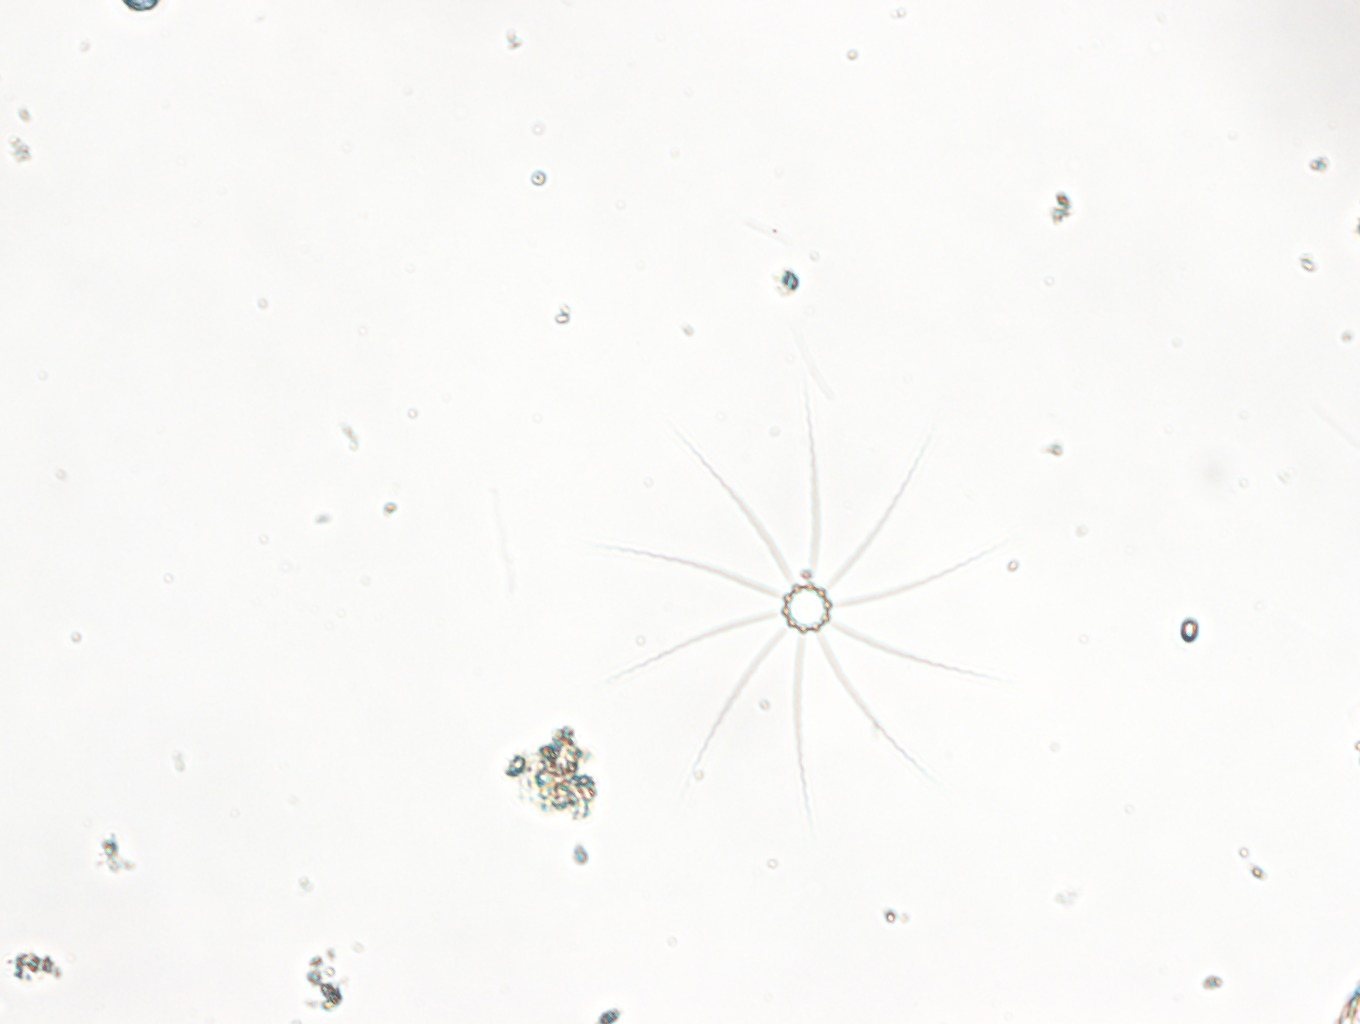bacteriastrum: (613, 374, 998, 827)
